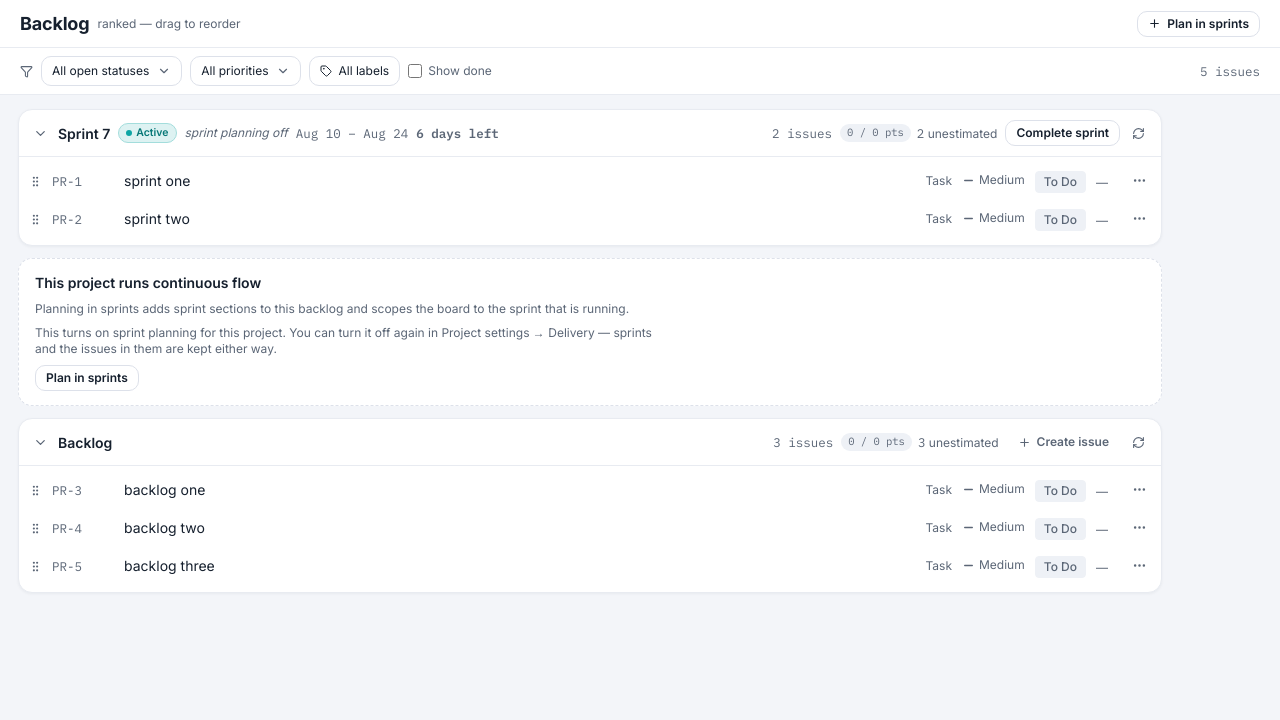
BacklogPage delivery capabilities (HD-102) › keeps a running sprint visible and read-only when iterations are off
This screenshot has width=1280, height=720.
Check: the text "backlog one" is shown, box [124,481,205,498]
Check: the text "Sprint 7" is shown, box [58,122,110,144]
…including the kebab's cross-section moves, in both directions.
Step 1. Click the button named "Move PR-3" → (1140, 490), box [1128,478,1151,501]
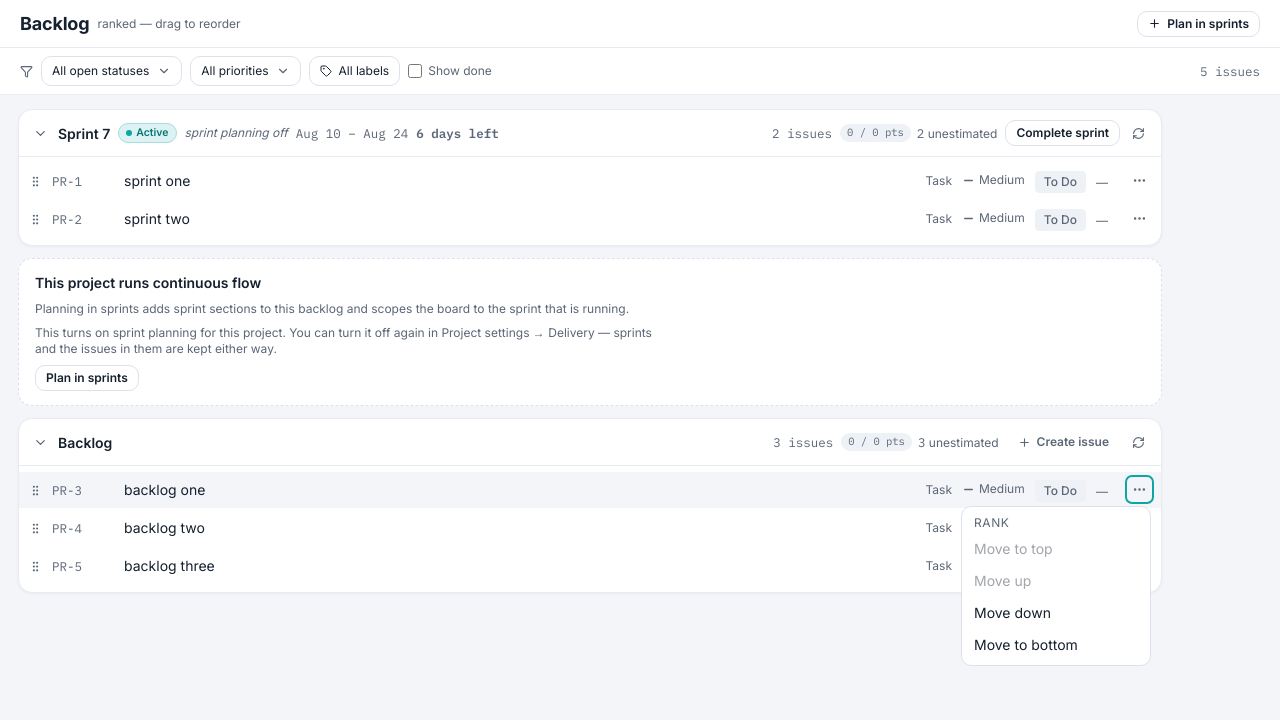
Check: the menu item "Move to top" is shown, box [962,533,1150,565]
